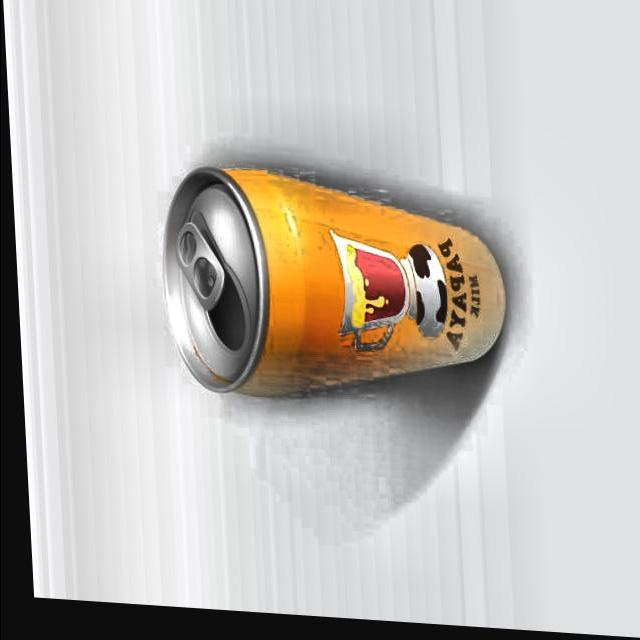Aluminum Can: (145, 164, 516, 423)
